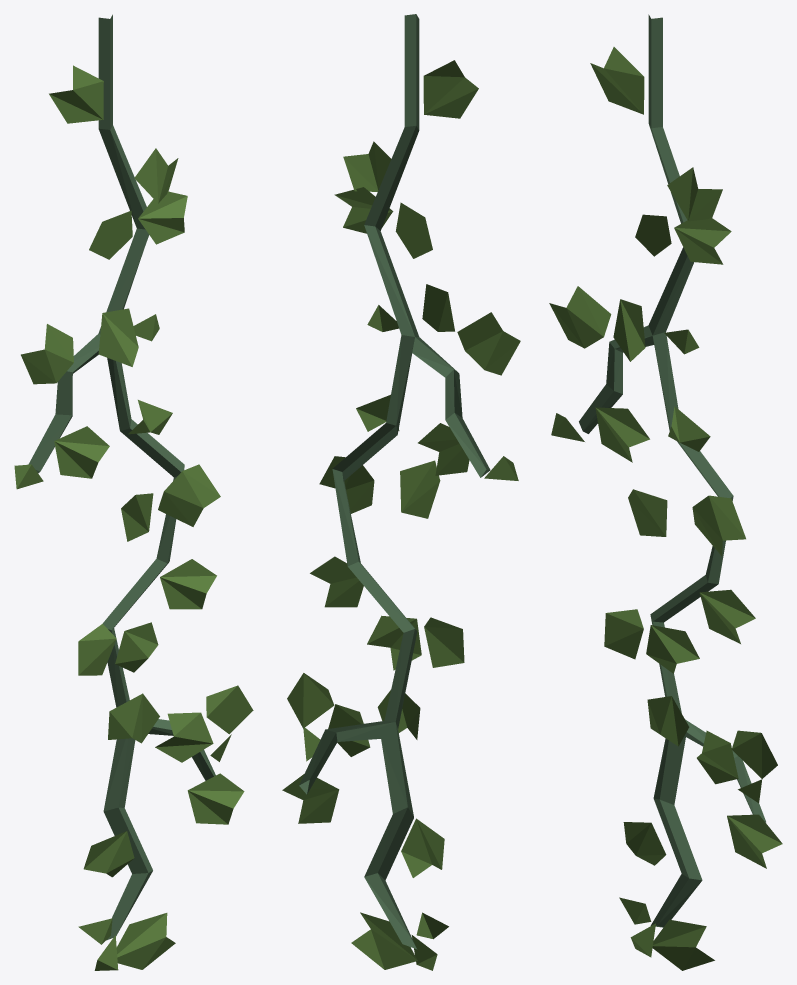
Rendered from SM_Env_Vines_Wall_02.glb.
3 views of the same model, side by side, from view 1: azimuth 30°, elevation 25°; view 2: azimuth 150°, elevation 25°; view 3: azimuth 330°, elevation 25° (orthographic). The views are drawn at different scales.
Visible parts, largest first — view 1: SM_Env_Vines_Wall_02_part00; view 2: SM_Env_Vines_Wall_02_part00; view 3: SM_Env_Vines_Wall_02_part00.
Part boxes in pixels (x1,y1,x2,y2): SM_Env_Vines_Wall_02_part00: (14, 14, 253, 970); SM_Env_Vines_Wall_02_part00: (282, 14, 520, 970); SM_Env_Vines_Wall_02_part00: (549, 14, 782, 970).
Bounding box in the file's own units: 0.6973 × 2.73 × 0.1359.
Materials: 1 (1 with a texture image).
